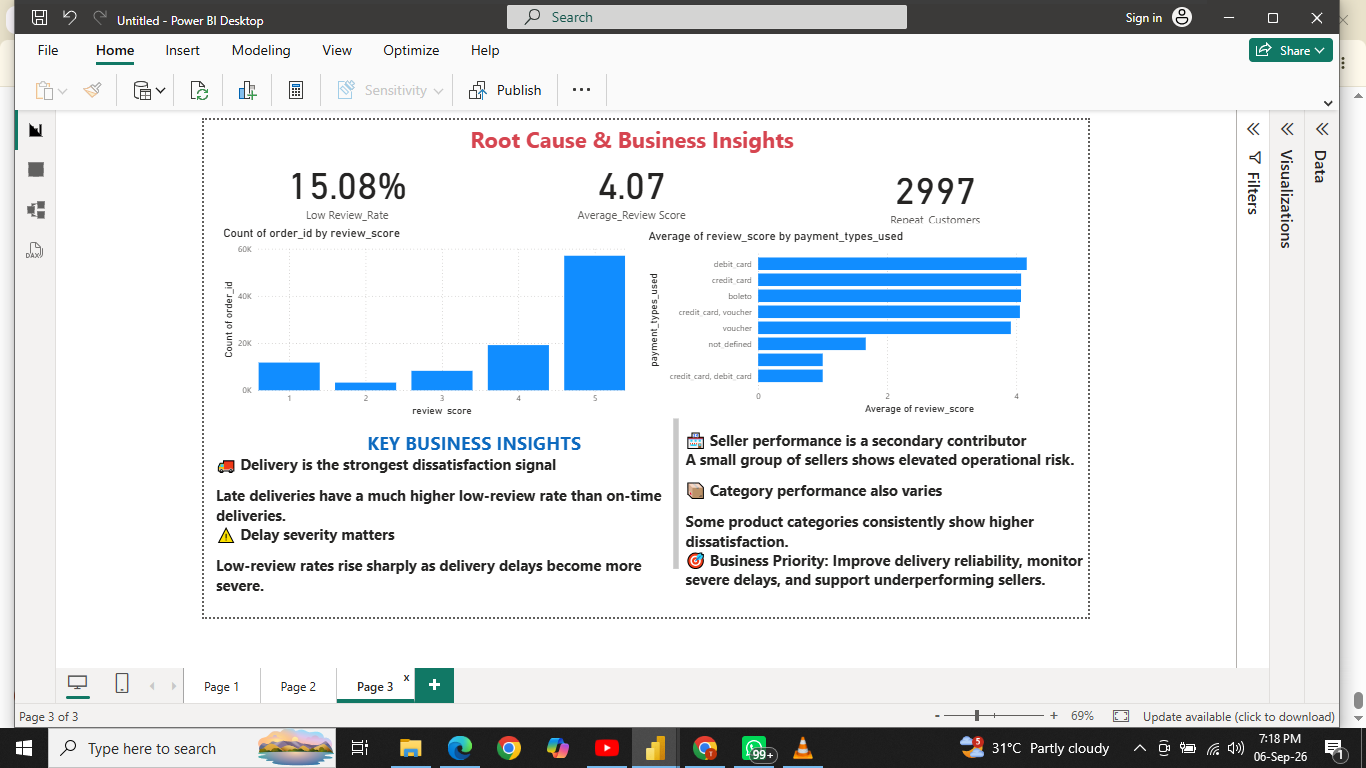

What the dashboard file says about the page in this screenshot:
{"tool":"powerbi","page":{"name":"Page 3","canvas":[1280,720],"ordinal":2},"visuals":[{"type":"card","fields":{"Values":["olist_master_for_powerbi.Low Review_Rate"]},"box":[13,44.7,389.2,109.5],"z":0},{"type":"card","fields":{"Values":["olist_master_for_powerbi.Average_Review Score"]},"box":[402.2,44.7,436.8,109.5],"z":1000},{"type":"card","fields":{"Values":["olist_master_for_powerbi.Repeat_Customers"]},"box":[838.9,56.2,441.1,98],"z":2000},{"type":"clusteredColumnChart","fields":{"Category":["olist_master_for_powerbi.review_score"],"Y":["Count(olist_master_for_powerbi.order_id)"]},"box":[23.1,154.2,592.4,281.1],"z":3000},{"type":"clusteredBarChart","fields":{"Category":["olist_master_for_powerbi.payment_types_used"],"Y":["Avg(olist_master_for_powerbi.review_score)"]},"box":[639.4,158.4,640.8,273.6],"z":4000},{"type":"textbox","box":[13,428.1,680.4,268.1],"z":5000},{"type":"textbox","box":[693,428,587,268],"z":6000},{"type":"textbox","box":[0,0,1280,56.2],"z":7000}]}

Visuals, with their boxes on the page's 1280x720 design canvas (x1, y1, x2, y2). These are canvas units, not pixel positions in the 1366x768 screenshot, which may show the page scaled, cropped or inside an application window:
card - olist_master_for_powerbi.Low Review_Rate: [13, 45, 402, 154]
card - olist_master_for_powerbi.Average_Review Score: [402, 45, 839, 154]
card - olist_master_for_powerbi.Repeat_Customers: [839, 56, 1280, 154]
clusteredColumnChart - olist_master_for_powerbi.review_score x Count(olist_master_for_powerbi.order_id): [23, 154, 616, 435]
clusteredBarChart - olist_master_for_powerbi.payment_types_used x Avg(olist_master_for_powerbi.review_score): [639, 158, 1280, 432]
textbox: [13, 428, 693, 696]
textbox: [693, 428, 1280, 696]
textbox: [0, 0, 1280, 56]
